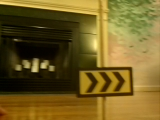right: (75, 68, 133, 96)
